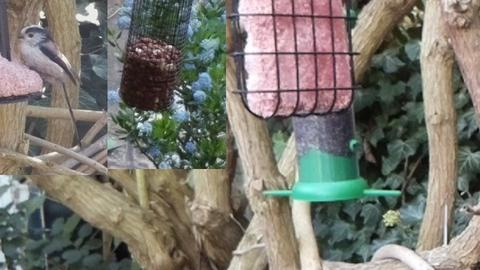long tailed tit: (18, 25, 82, 150)
